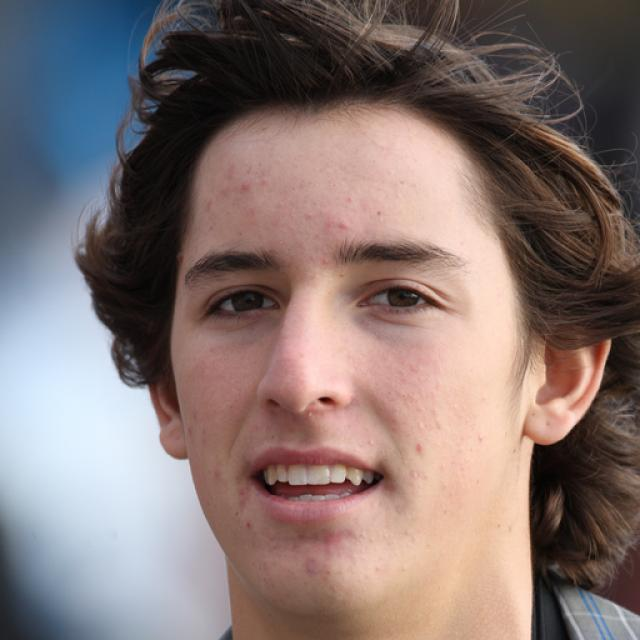Acne: (332, 183, 361, 214), (290, 205, 320, 227), (360, 433, 388, 455), (231, 179, 256, 202), (314, 251, 338, 273), (324, 214, 350, 233), (304, 402, 321, 424)
Spots: (308, 523, 364, 563), (195, 187, 232, 221), (408, 435, 433, 462)
